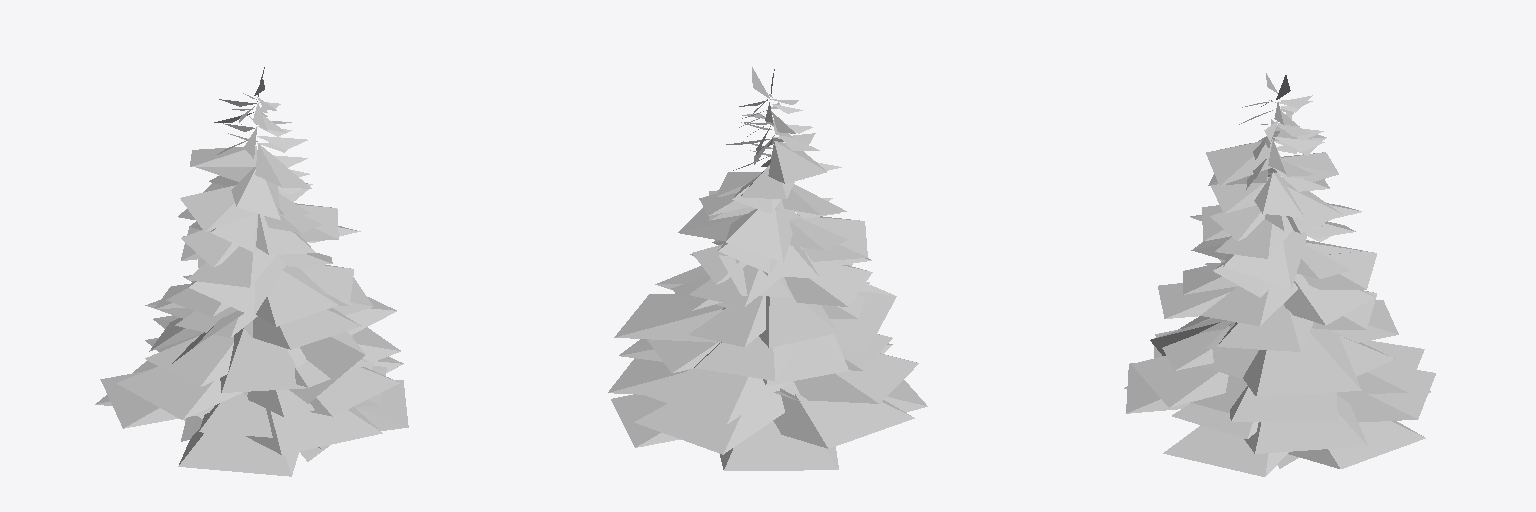
Rendered from PineLOD2.obj.
3 renders of one model, left to right at view 1: azimuth 30°, elevation 25°; view 2: azimuth 150°, elevation 25°; view 3: azimuth 270°, elevation 25°, orthographic.
Visible parts, largest first — view 1: pine4mLOD2; view 2: pine4mLOD2; view 3: pine4mLOD2.
Boxes of the visible parts, <box> form: pine4mLOD2: <box>95,67,408,476</box>; pine4mLOD2: <box>608,67,927,470</box>; pine4mLOD2: <box>1124,73,1435,476</box>.
Bounding box in the file's own units: 340 × 438 × 329.